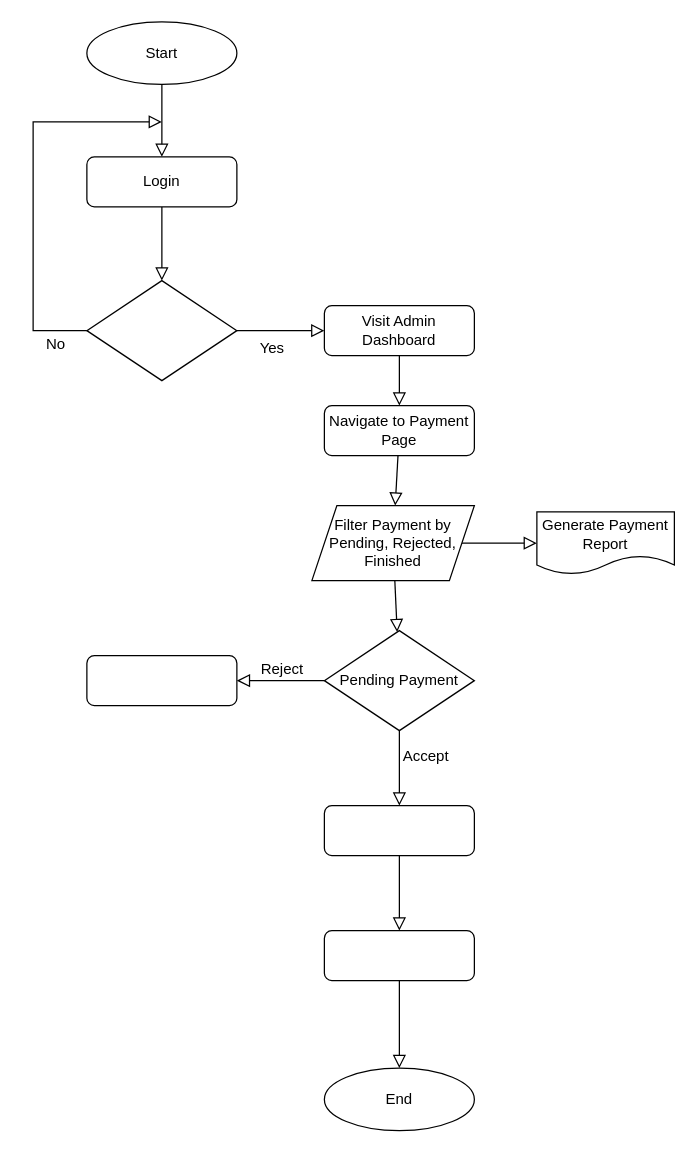
This 696x1153 diagram has some shape labels left out. The centre of each missing label's shape, as x and y in pixels:
"Check Username, Password, Position" belongs at point (161, 330).
"Logout" belongs at point (398, 955).
"Send Receipt to user" belongs at point (398, 830).
"Send Warning Messages to user" belongs at point (161, 680).
